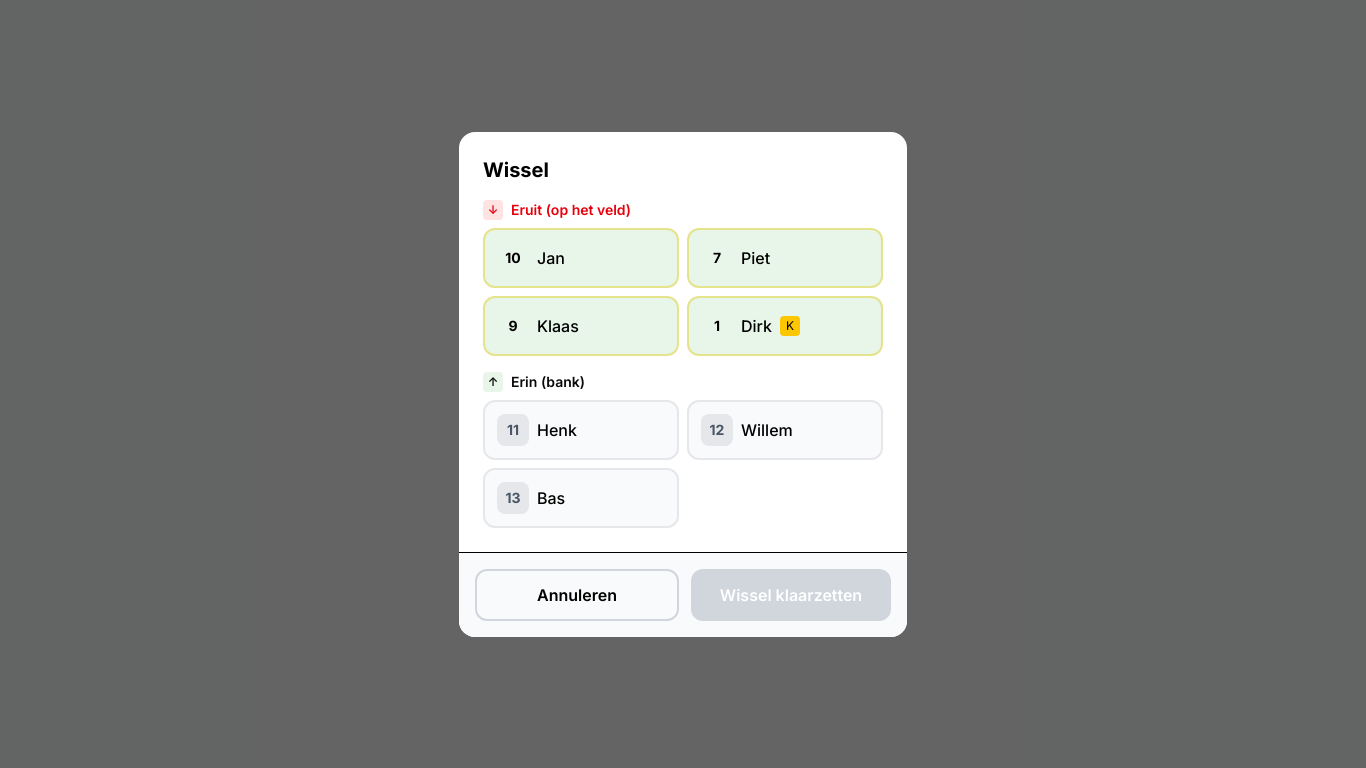
Scenario: SubstitutionPanel › Submit Button State › enables submit button when both players selected
The image size is (1366, 768).
Click the text "Jan": {"x": 551, "y": 258} [537,246,565,270]
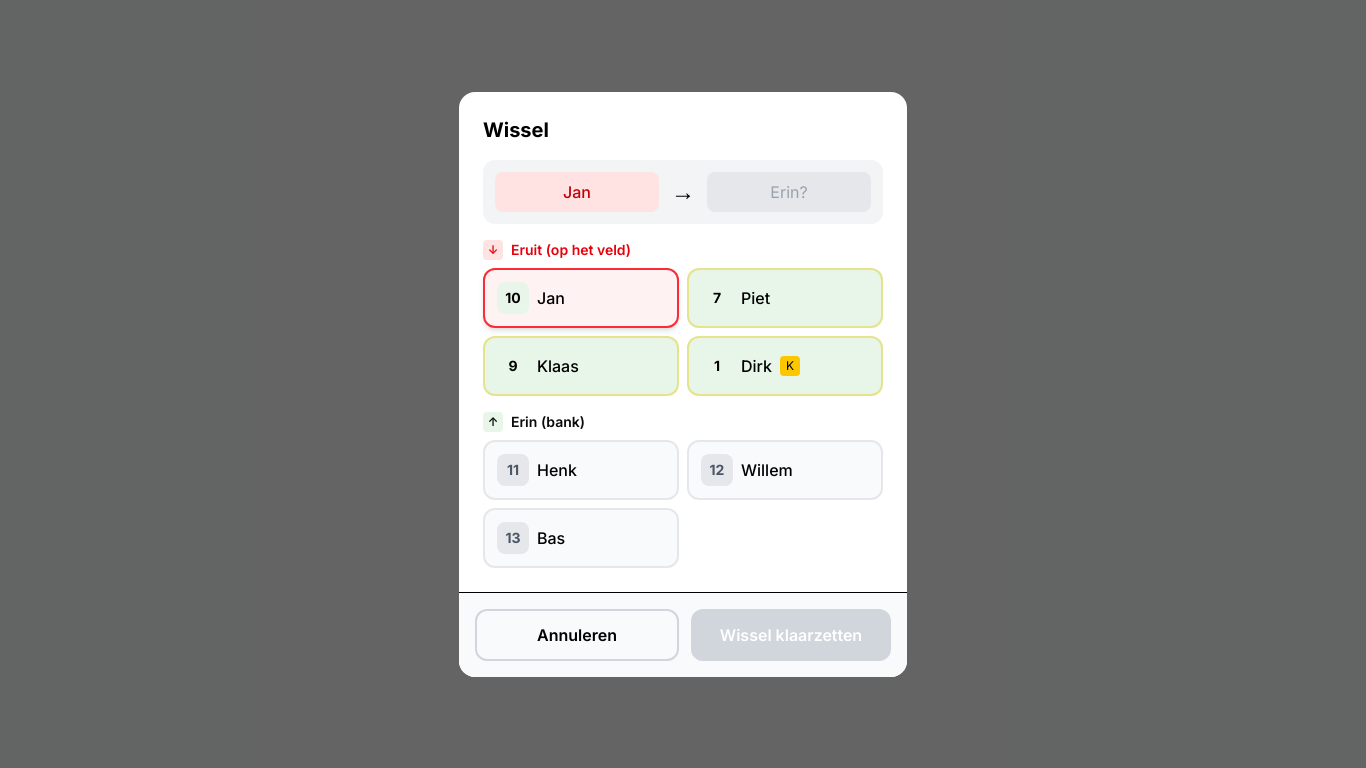
Click the text "Henk": {"x": 557, "y": 470} [537,458,577,482]
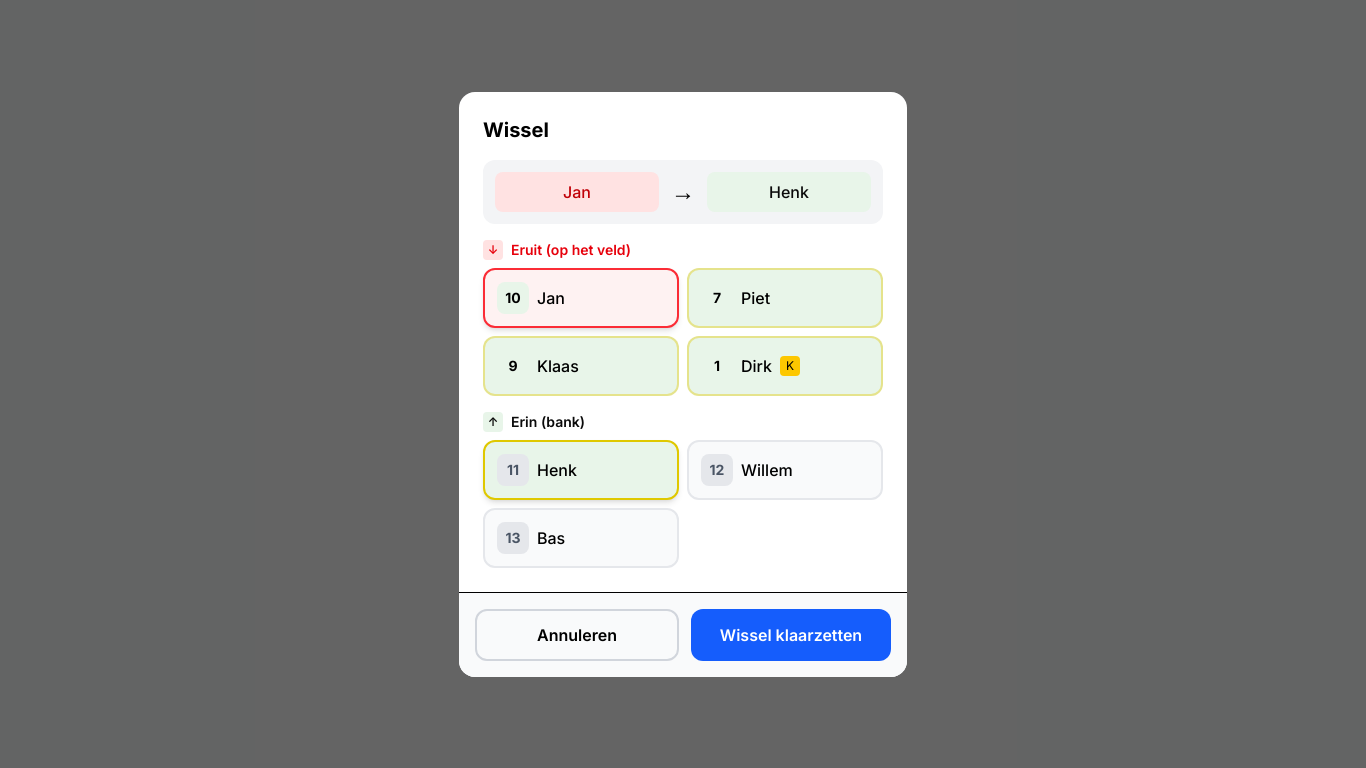
Now the button "Wissel klaarzetten" is enabled, box [691,608,891,660]
